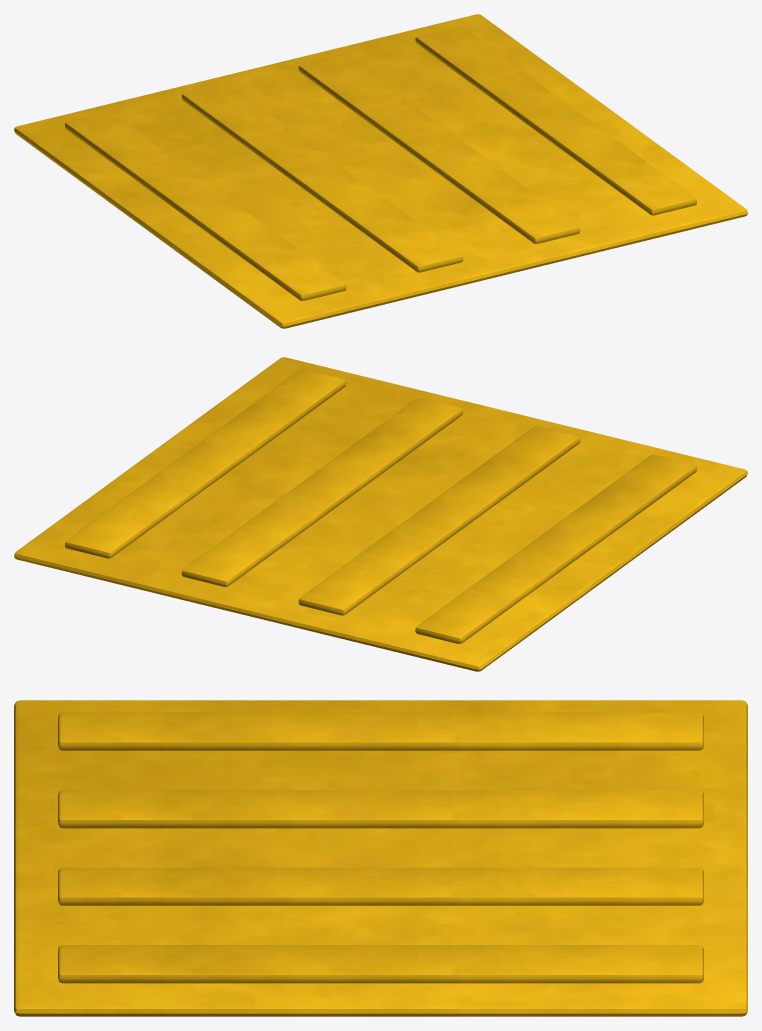
Rendered from PIS-TAT-004.glb.
3 views of the same model, one above another, from view 1: azimuth 30°, elevation 25°; view 2: azimuth 150°, elevation 25°; view 3: azimuth 270°, elevation 25° (orthographic). The views are drawn at different scales.
Parts seen in each view (by area): view 1: PIS-TAT-004_placa, PIS-TAT-004_barra1, PIS-TAT-004_barra0, PIS-TAT-004_barra3, PIS-TAT-004_barra2; view 2: PIS-TAT-004_placa, PIS-TAT-004_barra1, PIS-TAT-004_barra0, PIS-TAT-004_barra3, PIS-TAT-004_barra2; view 3: PIS-TAT-004_placa, PIS-TAT-004_barra0, PIS-TAT-004_barra1, PIS-TAT-004_barra2, PIS-TAT-004_barra3.
Boxes of the visible parts, box(x1,y1,x2,y2) form: PIS-TAT-004_placa: box(14, 14, 747, 328); PIS-TAT-004_barra1: box(181, 83, 463, 272); PIS-TAT-004_barra0: box(65, 111, 346, 300); PIS-TAT-004_barra3: box(415, 26, 696, 215); PIS-TAT-004_barra2: box(298, 54, 580, 243); PIS-TAT-004_placa: box(14, 357, 747, 671); PIS-TAT-004_barra1: box(298, 426, 580, 615); PIS-TAT-004_barra0: box(415, 454, 696, 643); PIS-TAT-004_barra3: box(65, 369, 346, 558); PIS-TAT-004_barra2: box(181, 397, 463, 586); PIS-TAT-004_placa: box(14, 700, 747, 1016); PIS-TAT-004_barra0: box(58, 712, 703, 750); PIS-TAT-004_barra1: box(58, 790, 703, 828); PIS-TAT-004_barra2: box(58, 867, 703, 905); PIS-TAT-004_barra3: box(58, 945, 703, 983).
Bounding box in the file's own units: 0.25 × 0.008 × 0.25.
1 material, 1 textured.
